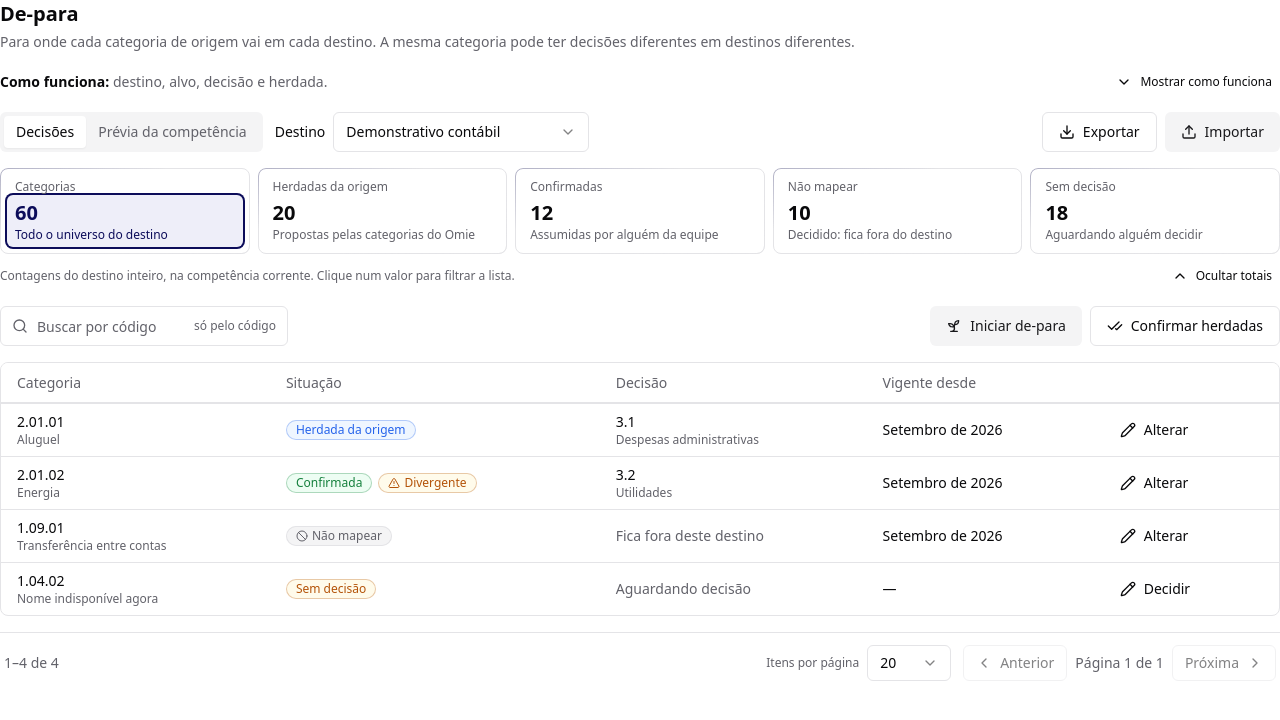
Test: ClientMappingScreen — contadores que filtram (86e3f55bd) › o botão da coluna não abre a gaveta duas vezes
Click the button with aria-label "Alterar a categoria 2.01.01".
click(1154, 430)  # box [1108,412,1200,448]
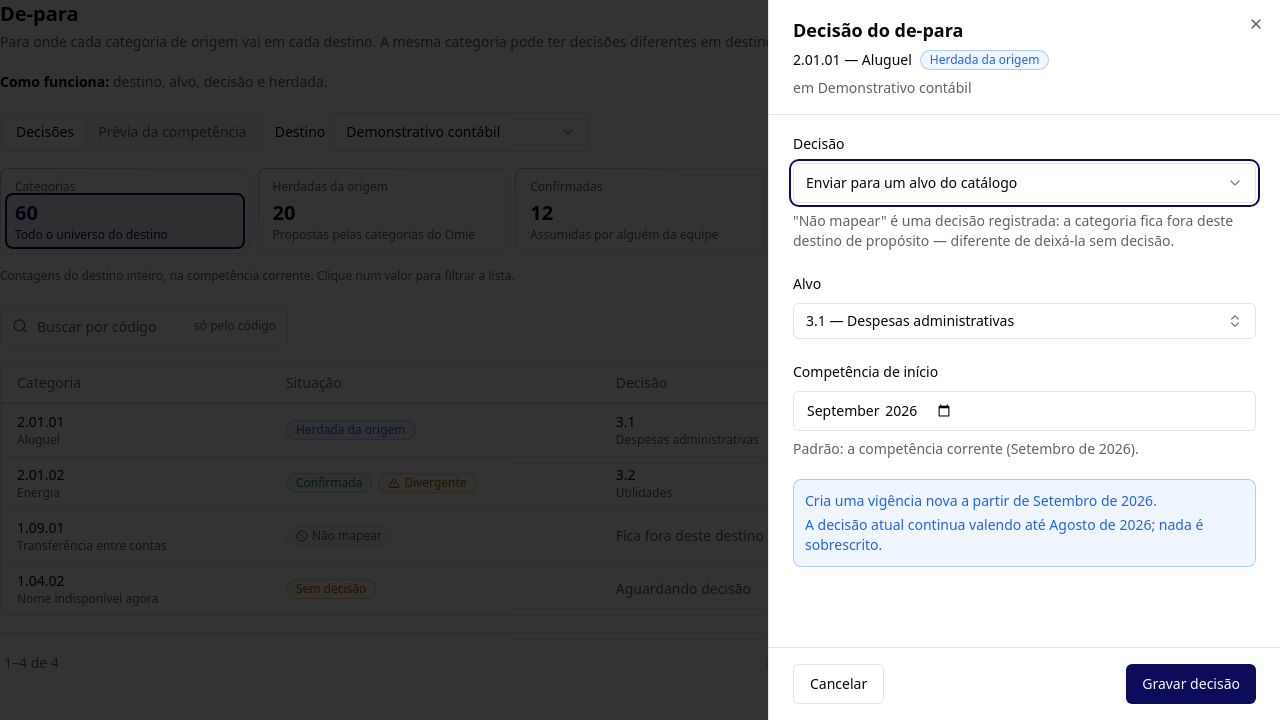
Expected: the number of dialogs is 1, [768,0,1279,719]
